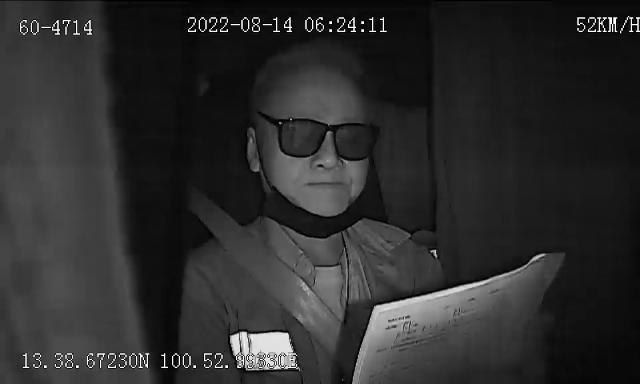Seatbelt: (196, 191, 344, 365)
